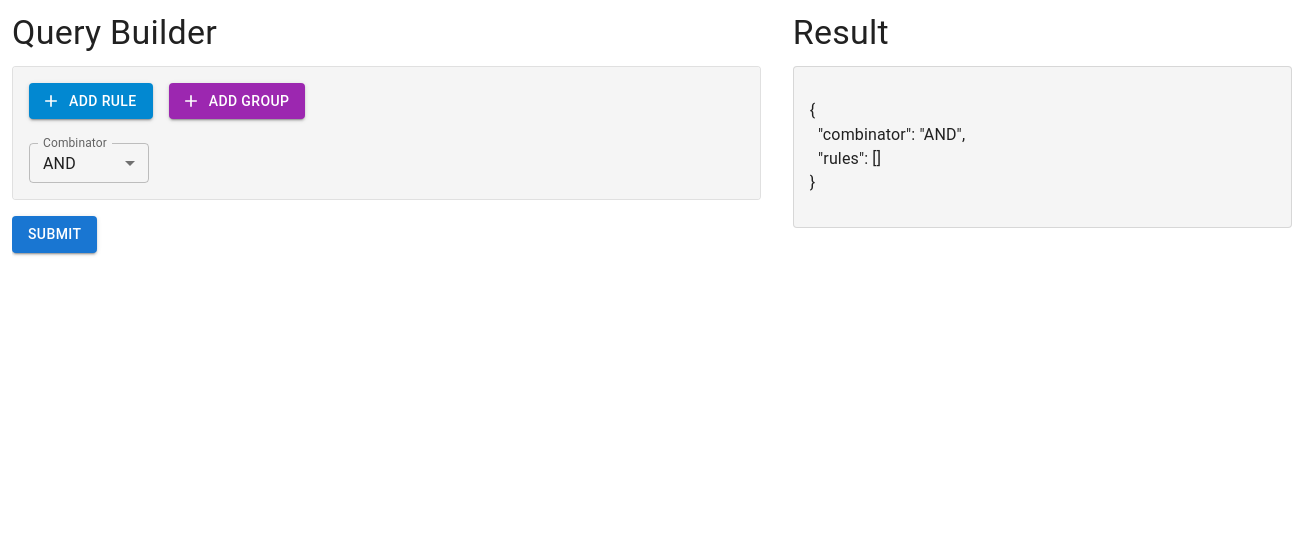
Test: QueryBuilder › updates the query state
Click the button "Add Rule": (91, 101) [29, 83, 153, 119]
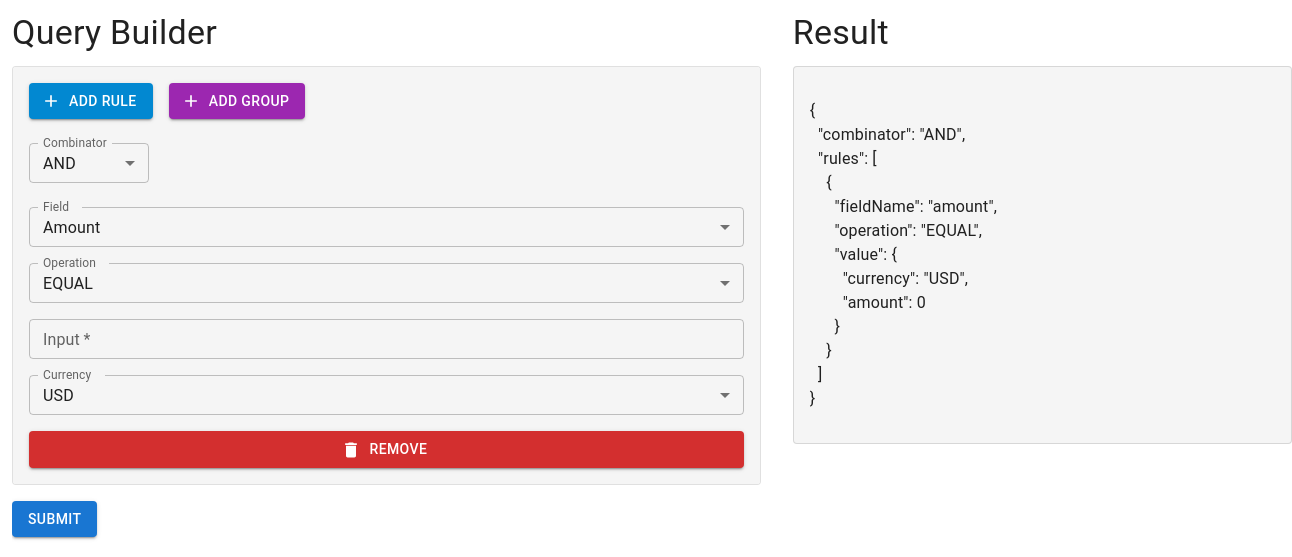
Result: the text "\"fieldName\": \"amount\"" is shown at [810, 101, 997, 408]
